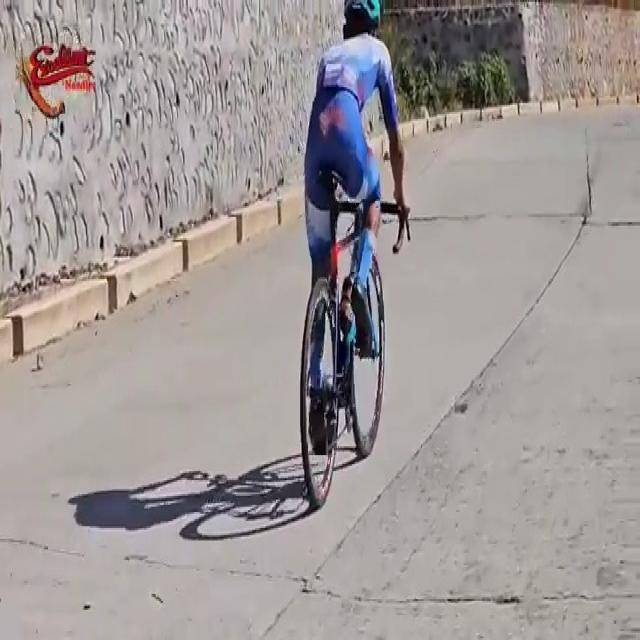bike: (299, 0, 412, 518)
